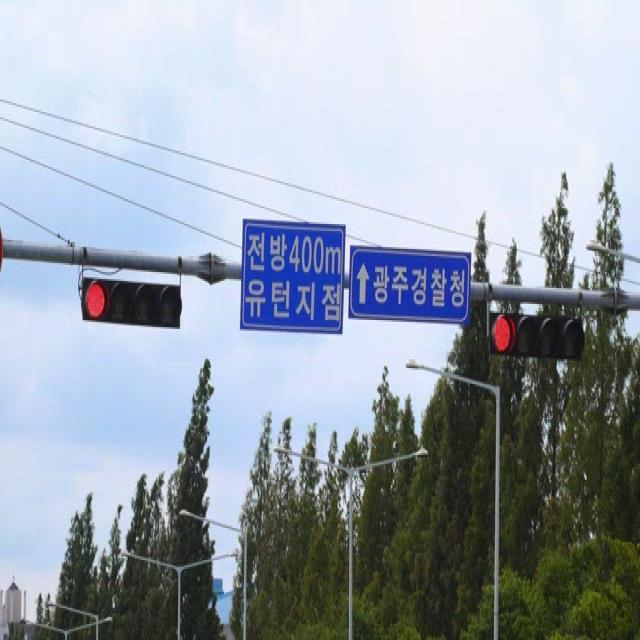red_light: (80, 276, 182, 332), (493, 315, 583, 360)
